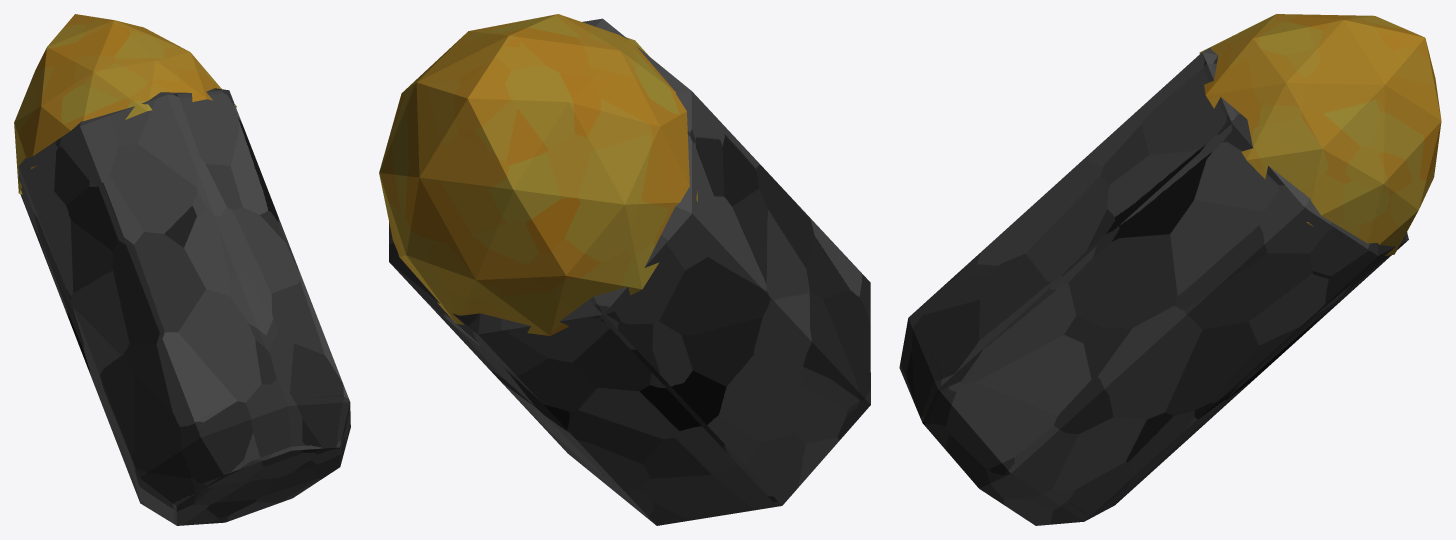
File: Bullet.glb
3 renders of one model, left to right at view 1: azimuth 30°, elevation 25°; view 2: azimuth 150°, elevation 25°; view 3: azimuth 270°, elevation 25°, orthographic. The views are drawn at different scales.
Parts seen in each view (by area): view 1: Cylinder.001, Cylinder; view 2: Cylinder.001, Cylinder; view 3: Cylinder.001, Cylinder.
Part boxes in pixels (x1,y1,x2,y2): Cylinder.001: [18, 88, 350, 525]; Cylinder: [14, 14, 236, 194]; Cylinder.001: [389, 18, 870, 525]; Cylinder: [379, 14, 697, 335]; Cylinder.001: [899, 47, 1408, 525]; Cylinder: [1199, 14, 1441, 255].
Bounding box in the file's own units: 0.8678 × 1.62 × 1.6.
Materials: 2 (2 with a texture image).
